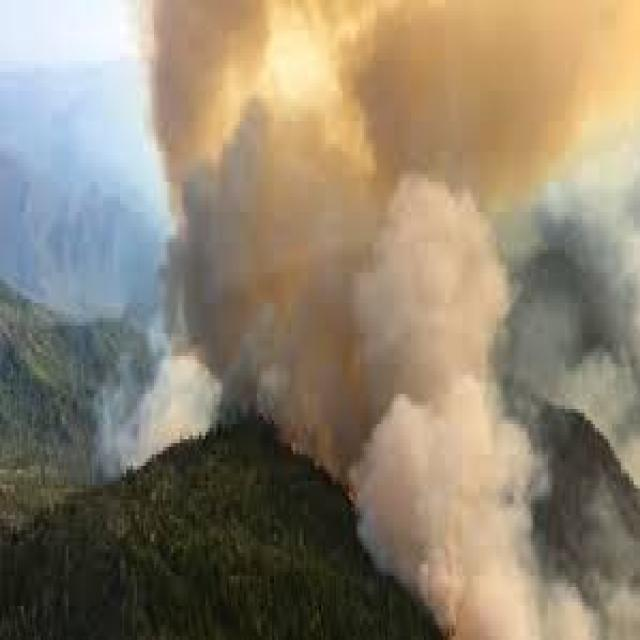Smoke: (355, 0, 640, 640), (150, 6, 510, 379), (150, 0, 630, 192), (114, 372, 216, 472)
